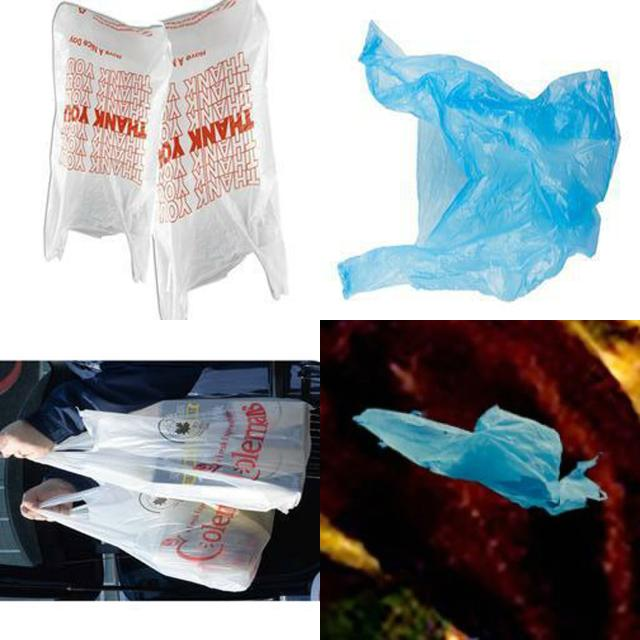Single-layer Plastic: (339, 22, 620, 301), (154, 0, 286, 319), (44, 2, 172, 281), (35, 398, 310, 512), (354, 405, 606, 515), (40, 485, 274, 591)
